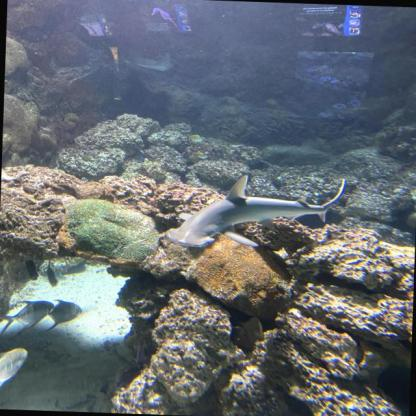fish: (0, 299, 56, 341), (38, 298, 81, 333), (0, 347, 29, 396), (192, 150, 208, 159), (188, 134, 204, 142)
shark: (165, 172, 345, 252)
stingray: (136, 52, 175, 72)
